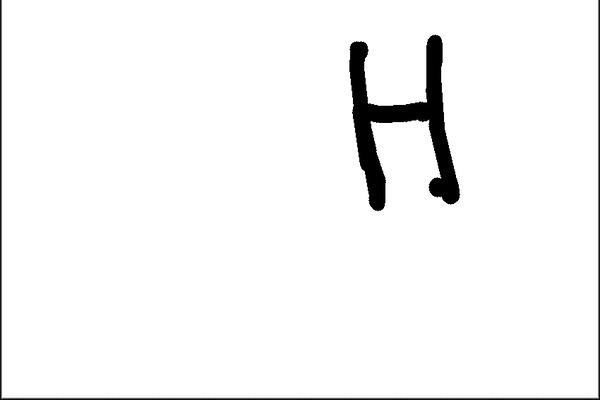H: (334, 33, 467, 212)
